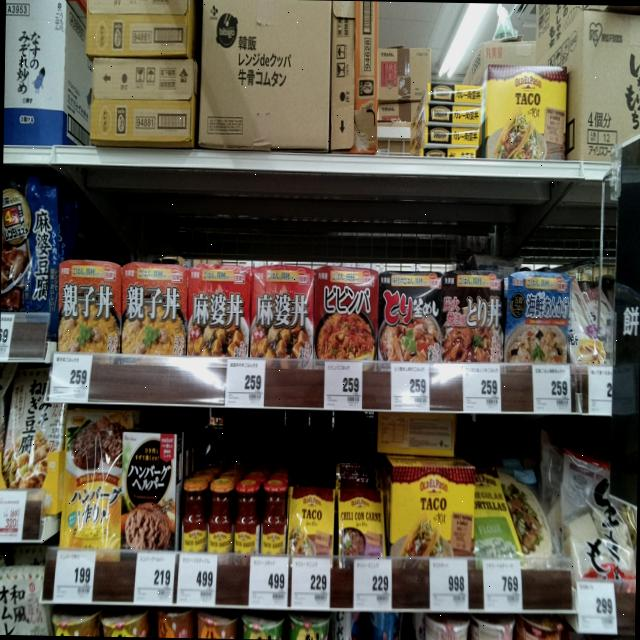objects: (352, 555, 396, 616), (574, 581, 620, 638), (482, 556, 525, 612), (427, 556, 470, 612), (290, 556, 332, 612), (54, 547, 95, 604), (134, 550, 174, 608), (530, 361, 572, 414), (248, 554, 288, 608), (460, 362, 502, 413), (389, 360, 431, 410), (176, 554, 218, 604), (324, 360, 364, 410), (51, 354, 92, 402), (226, 358, 264, 406), (588, 364, 612, 416), (0, 307, 13, 364)
